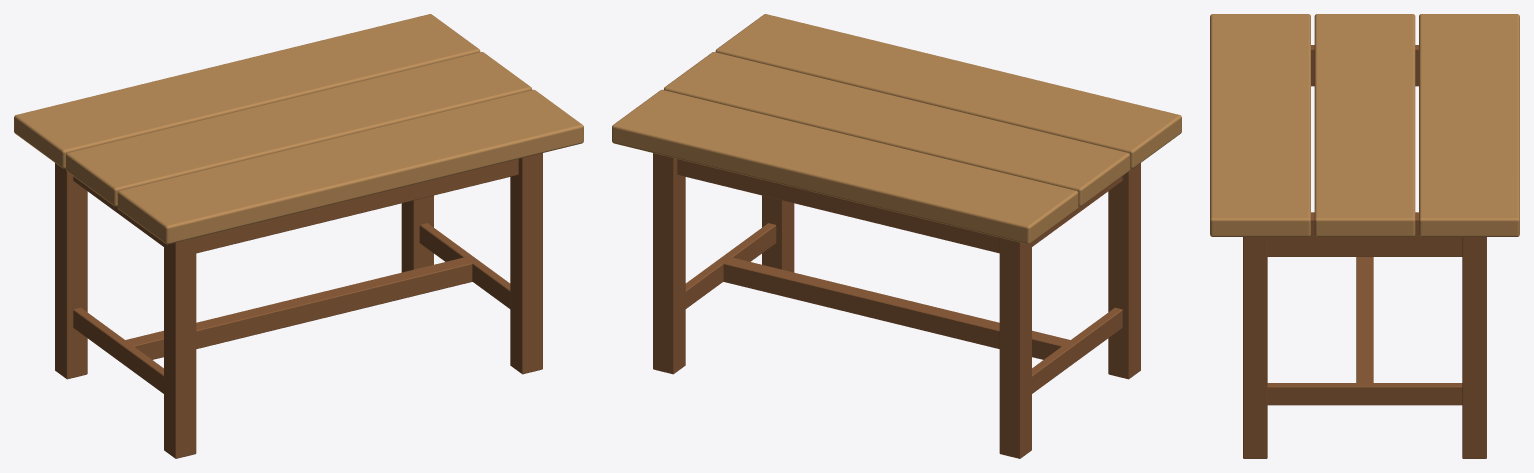
File: cabin-plank-table.glb
3 renders of one model, left to right at view 1: azimuth 30°, elevation 25°; view 2: azimuth 150°, elevation 25°; view 3: azimuth 270°, elevation 25°, orthographic.
Parts seen in each view (by area): view 1: top.plank.3, top.plank.2, top.plank.1, stretcher.long, leg.front.left, leg.front.right, leg.back.left, apron.front, stretcher.cross.left, stretcher.cross.right, leg.back.right; view 2: top.plank.1, top.plank.2, top.plank.3, stretcher.long, leg.back.left, leg.back.right, leg.front.left, apron.back, stretcher.cross.left, stretcher.cross.right, leg.front.right; view 3: top.plank.2, top.plank.1, top.plank.3, leg.back.right, leg.front.right, stretcher.cross.right, apron.side.right, stretcher.long, apron.side.left.
Boxes of the visible parts, x1,y1,x2,y2 form: top.plank.3: [117, 89, 583, 244]; top.plank.2: [65, 52, 532, 206]; top.plank.1: [14, 14, 480, 168]; stretcher.long: [123, 256, 477, 359]; leg.front.left: [164, 237, 196, 458]; leg.front.right: [510, 153, 542, 374]; leg.back.left: [55, 163, 87, 379]; apron.front: [196, 159, 518, 253]; stretcher.cross.left: [73, 307, 163, 393]; stretcher.cross.right: [419, 223, 510, 308]; leg.back.right: [401, 195, 433, 272]; top.plank.1: [612, 89, 1078, 244]; top.plank.2: [663, 52, 1130, 206]; top.plank.3: [715, 14, 1181, 168]; stretcher.long: [722, 256, 1076, 359]; leg.back.left: [999, 237, 1031, 458]; leg.back.right: [653, 153, 685, 374]; leg.front.left: [1108, 163, 1140, 379]; apron.back: [677, 159, 999, 253]; stretcher.cross.left: [1032, 307, 1122, 393]; stretcher.cross.right: [685, 223, 776, 308]; leg.front.right: [762, 195, 794, 272]; top.plank.2: [1314, 14, 1415, 236]; top.plank.1: [1419, 14, 1519, 236]; top.plank.3: [1210, 14, 1310, 236]; leg.back.right: [1462, 237, 1486, 458]; leg.front.right: [1243, 237, 1267, 458]; stretcher.cross.right: [1267, 383, 1462, 405]; apron.side.right: [1267, 215, 1462, 256]; stretcher.long: [1356, 257, 1373, 385]; apron.side.left: [1311, 45, 1418, 86].
Bounding box in the file's own units: 1.4 × 0.801 × 0.89.
